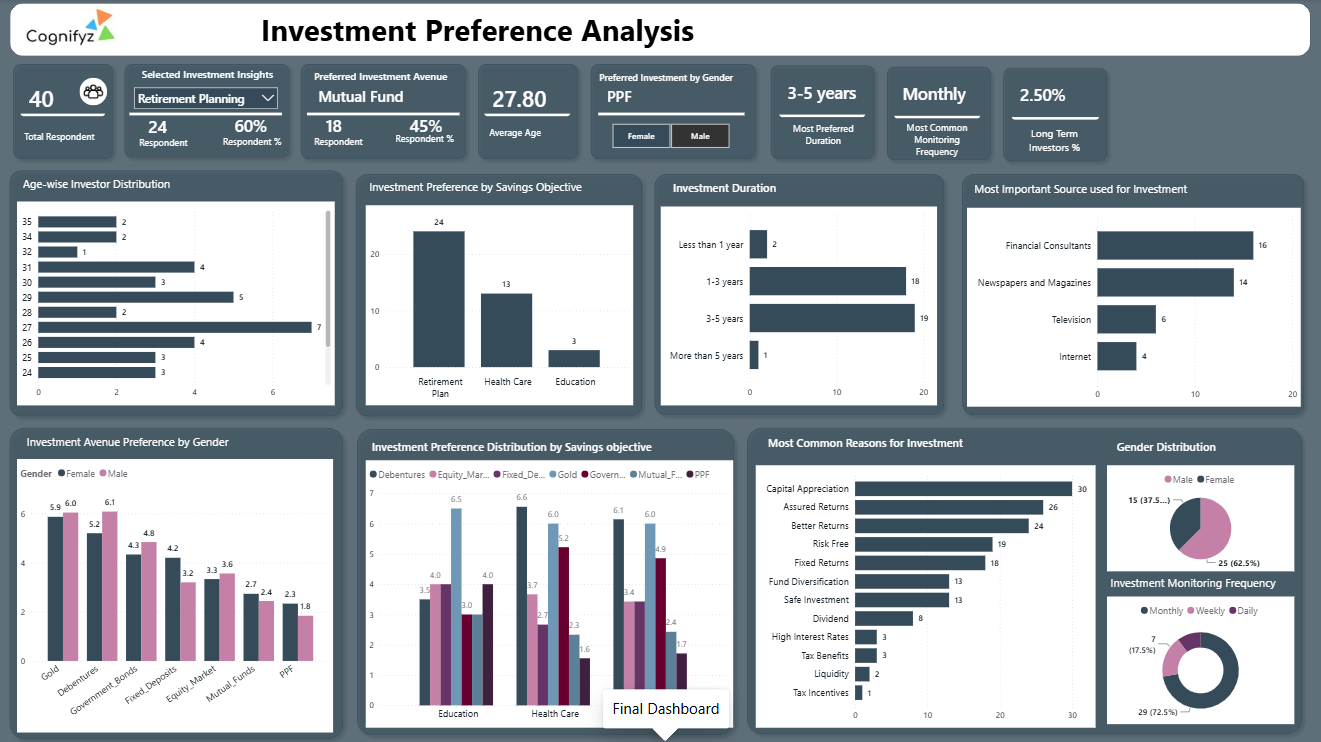

Layout of this report page (visuals, bound fields, positions):
{"tool":"powerbi","page":{"name":"Final Dashboard","canvas":[1920,1080],"ordinal":6},"visuals":[{"type":"shape","box":[1076.7,611.7,821.6,461.5],"z":0},{"type":"shape","box":[18.1,5.4,1883.9,77.8],"z":1000},{"type":"textbox","box":[293.2,9,805.3,70.6],"z":2000},{"type":"image","box":[41.6,5.4,130.3,70.6],"z":3000},{"type":"shape","box":[14.5,85.1,162.9,155.6],"z":4000},{"type":"image","box":[119.4,114,39.8,39.8],"z":5000},{"type":"cardVisual","fields":{"Data":["Measure.Total Respondents"]},"box":[29,103.2,133.9,72.4],"z":6000},{"type":"textbox","box":[34.4,184.6,124.9,32.6],"z":7000},{"type":"shape","box":[175.5,85.1,257,153.8],"z":8000},{"type":"textbox","box":[204.5,94.1,211.7,36.2],"z":9000},{"type":"slicer","fields":{"Values":["KPI Selector.KPI Name"]},"box":[188.2,117.6,228,48.9],"z":10000},{"type":"cardVisual","title":"Selected Investment Insight","fields":{"Data":["Measure.Dynamic KPI"]},"box":[209.9,164.7,59.7,36.2],"z":11000},{"type":"cardVisual","fields":{"Data":["Measure.Dynamic KPI %"]},"box":[334.8,166.5,72.4,32.6],"z":12000},{"type":"textbox","box":[200.9,193.6,90.5,41.6],"z":13000},{"type":"textbox","box":[322.1,191.8,103.2,38],"z":14000},{"type":"shape","box":[430.7,85.1,257,155.6],"z":15000},{"type":"textbox","box":[454.2,95.9,209.9,36.2],"z":16000},{"type":"cardVisual","fields":{"Data":["Measure.Preferred Investment Avenue"]},"box":[456,124.9,209.9,30.8],"z":17000},{"type":"cardVisual","fields":{"Data":["Measure.Preferred Avenue Count"]},"box":[466.9,166.5,43.4,32.6],"z":18000},{"type":"cardVisual","fields":{"Data":["Measure.Preferred Avenue %"]},"box":[588.1,166.5,72.4,32.6],"z":19000},{"type":"textbox","box":[454.2,191.8,90.5,41.6],"z":20000},{"type":"textbox","box":[571.9,188.2,103.2,38],"z":21000},{"type":"shape","box":[191.8,157.4,220.8,18.1],"z":22000},{"type":"shape","box":[448.8,157.4,220.8,18.1],"z":23000},{"type":"shape","box":[687.7,85.1,162.9,155.6],"z":24000},{"type":"cardVisual","fields":{"Data":["Measure.Average Age"]},"box":[700.3,103.2,135.7,72.4],"z":25000},{"type":"textbox","box":[707.6,179.2,119.4,29],"z":26000},{"type":"shape","box":[850.5,85.1,257,155.6],"z":27000},{"type":"textbox","box":[863.2,99.5,233.4,30.8],"z":28000},{"type":"cardVisual","fields":{"Data":["Measure.Most Preferred Investment"]},"box":[874.1,124.9,209.9,30.8],"z":29000},{"type":"shape","box":[870.4,157.4,211.7,18.1],"z":30000},{"type":"slicer","fields":{"Values":["Reference.Gender"]},"box":[865,173.7,219,48.9],"z":31000},{"type":"shape","box":[1111.1,86.9,168.3,153.8],"z":32000},{"type":"cardVisual","fields":{"Data":["Measure.Most Preferred Duration"]},"box":[1127.4,99.5,135.7,77.8],"z":33000},{"type":"textbox","box":[1141.9,173.7,108.6,48.9],"z":34000},{"type":"shape","box":[1279.4,88.7,168.3,153.8],"z":35000},{"type":"cardVisual","fields":{"Data":["Measure.Most Common Monitoring Frequency"]},"box":[1293.9,101.3,135.7,77.8],"z":36000},{"type":"textbox","box":[1301.1,171.9,119.4,63.3],"z":37000},{"type":"shape","box":[1447.7,90.5,168.3,153.8],"z":38000},{"type":"cardVisual","fields":{"Data":["Measure.Long Term Investors %"]},"box":[1464,103.2,137.5,77.8],"z":39000},{"type":"textbox","box":[1471.3,179.2,119.4,56.1],"z":40000},{"type":"shape","box":[9,238.9,501.3,374.6],"z":41000},{"type":"textbox","box":[32.6,251.5,369.2,34.4],"z":42000},{"type":"shape","box":[510.3,244.3,432.5,369.2],"z":43000},{"type":"clusteredColumnChart","fields":{"Category":["Data_set 2.Savings_objectives"],"Y":["Measure.Total Respondents"]},"box":[533.8,298.6,387.3,289.5],"z":44000},{"type":"textbox","box":[533.8,255.2,361.9,36.2],"z":45000},{"type":"shape","box":[9,611.7,501.3,468.7],"z":46000},{"type":"clusteredColumnChart","fields":{"Category":["Reference.Investment_type"],"Series":["Reference.Gender"],"Y":["Measure.Average Preference Rank"]},"box":[29,666,457.8,396.3],"z":47000},{"type":"textbox","box":[38,624.3,318.5,36.2],"z":48000},{"type":"shape","box":[512.1,613.5,564.6,461.5],"z":49000},{"type":"textbox","box":[537.5,631.6,423.5,32.6],"z":51000},{"type":"shape","box":[942.8,244.3,437.9,367.4],"z":52000},{"type":"clusteredBarChart","fields":{"Y":["Measure.Total Respondents"],"Category":["Duration Lookup.Duration"]},"box":[960.9,300.4,399.9,287.7],"z":53000},{"type":"textbox","box":[973.6,257,356.5,34.4],"z":54000},{"type":"shape","box":[1388,244.3,513.9,367.4],"z":55000},{"type":"donutChart","fields":{"Category":["Data_set 2.Invest_Monitor"],"Y":["Measure.Total Respondents"]},"box":[1607,865,271.4,184.6],"z":56000},{"type":"textbox","box":[1607,828.8,257,38],"z":57000},{"type":"clusteredBarChart","fields":{"Category":["reason_analysis.Value"],"Y":["Measure.Reason Count"]},"box":[1098.5,675,492.2,380],"z":58000},{"type":"textbox","box":[1111.1,626.1,356.5,34.4],"z":59000},{"type":"clusteredBarChart","fields":{"Category":["Data_set 2.Source"],"Y":["Measure.Total Respondents"]},"box":[1404.3,302.2,483.2,287.7],"z":60000},{"type":"textbox","box":[1409.7,258.8,356.5,34.4],"z":61000},{"type":"clusteredBarChart","fields":{"Category":["Data_set 2.Age"],"Y":["CountNonNull(Data_set 2.Age)"]},"box":[29,293.2,459.7,295],"z":62000},{"type":"pieChart","fields":{"Category":["Data_set 2.Gender"],"Y":["Measure.Total Respondents"]},"box":[1607,675,271.4,153.8],"z":62001},{"type":"textbox","box":[1616,631.6,177.3,43.4],"z":62002},{"type":"clusteredColumnChart","fields":{"Category":["Reference.Savings_objectives"],"Y":["Measure.Average Preference Rank"],"Series":["Reference.Investment_type"]},"box":[534.1,667.6,532.1,386.8],"z":62003}]}

Visuals, with their boxes in screenshot pixels (x1, y1, x2, y2), scaled from the page's 1920x1080 canvas onto the 1321x742 screenshot:
shape: bbox(741, 420, 1306, 737)
shape: bbox(12, 4, 1309, 57)
textbox: bbox(202, 6, 756, 55)
image: bbox(29, 4, 118, 52)
shape: bbox(10, 58, 122, 165)
image: bbox(82, 78, 110, 106)
cardVisual - Measure.Total Respondents: bbox(20, 71, 112, 121)
textbox: bbox(24, 127, 110, 149)
shape: bbox(121, 58, 298, 164)
textbox: bbox(141, 65, 286, 90)
slicer - KPI Selector.KPI Name: bbox(129, 81, 286, 114)
"Selected Investment Insight" cardVisual: bbox(144, 113, 185, 138)
cardVisual - Measure.Dynamic KPI %: bbox(230, 114, 280, 137)
textbox: bbox(138, 133, 200, 162)
textbox: bbox(222, 132, 293, 158)
shape: bbox(296, 58, 473, 165)
textbox: bbox(312, 66, 457, 91)
cardVisual - Measure.Preferred Investment Avenue: bbox(314, 86, 458, 107)
cardVisual - Measure.Preferred Avenue Count: bbox(321, 114, 351, 137)
cardVisual - Measure.Preferred Avenue %: bbox(405, 114, 454, 137)
textbox: bbox(312, 132, 375, 160)
textbox: bbox(393, 129, 464, 155)
shape: bbox(132, 108, 284, 121)
shape: bbox(309, 108, 461, 121)
shape: bbox(473, 58, 585, 165)
cardVisual - Measure.Average Age: bbox(482, 71, 575, 121)
textbox: bbox(487, 123, 569, 143)
shape: bbox(585, 58, 762, 165)
textbox: bbox(594, 68, 754, 90)
cardVisual - Measure.Most Preferred Investment: bbox(601, 86, 746, 107)
shape: bbox(599, 108, 745, 121)
slicer - Reference.Gender: bbox(595, 119, 746, 153)
shape: bbox(764, 60, 880, 165)
cardVisual - Measure.Most Preferred Duration: bbox(776, 68, 869, 122)
textbox: bbox(786, 119, 860, 153)
shape: bbox(880, 61, 996, 167)
cardVisual - Measure.Most Common Monitoring Frequency: bbox(890, 70, 984, 123)
textbox: bbox(895, 118, 977, 162)
shape: bbox(996, 62, 1112, 168)
cardVisual - Measure.Long Term Investors %: bbox(1007, 71, 1102, 124)
textbox: bbox(1012, 123, 1094, 162)
shape: bbox(6, 164, 351, 421)
textbox: bbox(22, 173, 276, 196)
shape: bbox(351, 168, 649, 421)
clusteredColumnChart - Data_set 2.Savings_objectives x Measure.Total Respondents: bbox(367, 205, 634, 404)
textbox: bbox(367, 175, 616, 200)
shape: bbox(6, 420, 351, 741)
clusteredColumnChart - Reference.Investment_type x Reference.Gender: bbox(20, 458, 335, 730)
textbox: bbox(26, 429, 245, 454)
shape: bbox(352, 421, 741, 739)
textbox: bbox(370, 434, 661, 456)
shape: bbox(649, 168, 950, 420)
clusteredBarChart - Measure.Total Respondents x Duration Lookup.Duration: bbox(661, 206, 936, 404)
textbox: bbox(670, 177, 915, 200)
shape: bbox(955, 168, 1309, 420)
donutChart - Data_set 2.Invest_Monitor x Measure.Total Respondents: bbox(1106, 594, 1292, 721)
textbox: bbox(1106, 569, 1282, 596)
clusteredBarChart - reason_analysis.Value x Measure.Reason Count: bbox(756, 464, 1094, 725)
textbox: bbox(764, 430, 1010, 454)
clusteredBarChart - Data_set 2.Source x Measure.Total Respondents: bbox(966, 208, 1299, 405)
textbox: bbox(970, 178, 1215, 201)
clusteredBarChart - Data_set 2.Age x CountNonNull(Data_set 2.Age): bbox(20, 201, 336, 404)
pieChart - Data_set 2.Gender x Measure.Total Respondents: bbox(1106, 464, 1292, 569)
textbox: bbox(1112, 434, 1234, 464)
clusteredColumnChart - Reference.Savings_objectives x Measure.Average Preference Rank: bbox(367, 459, 734, 724)
